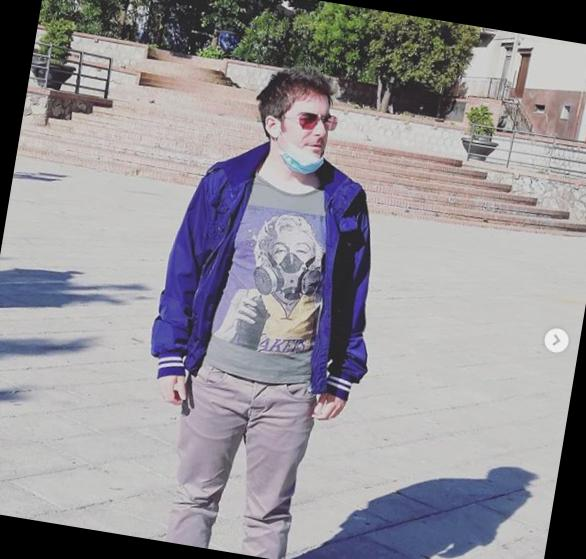mask_weared_incorrect: (279, 109, 335, 178)
